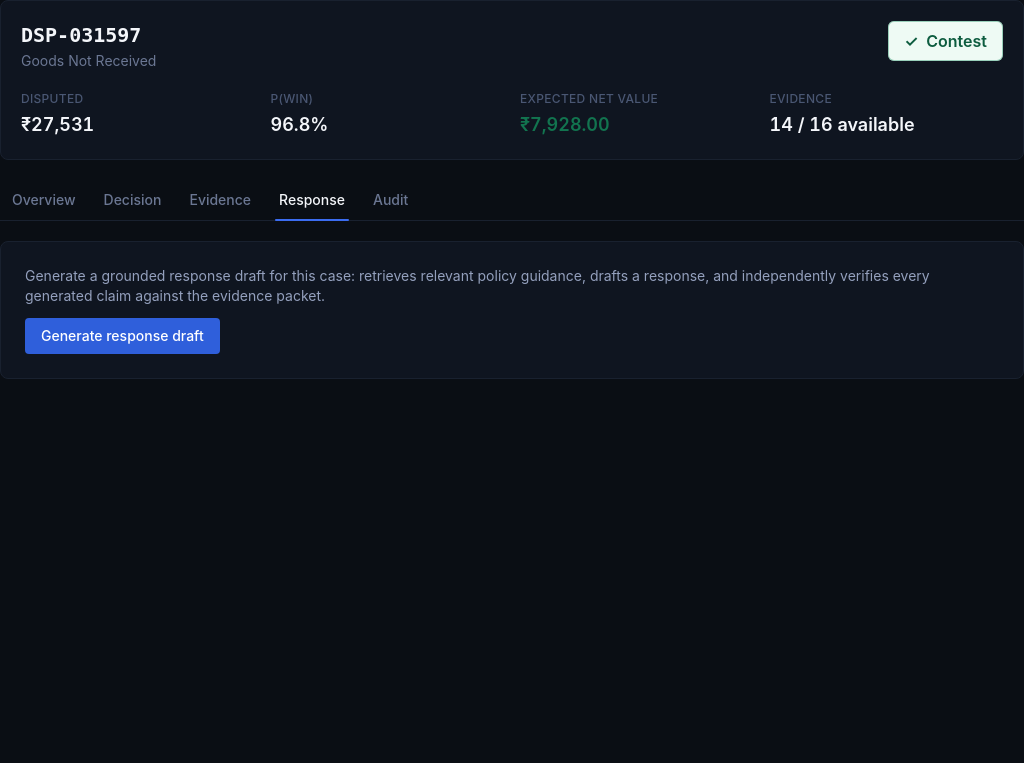
CaseResponsePage › never softens a blocked draft state
Click the button "Generate response draft".
click(122, 336)  # box [25,318,220,354]
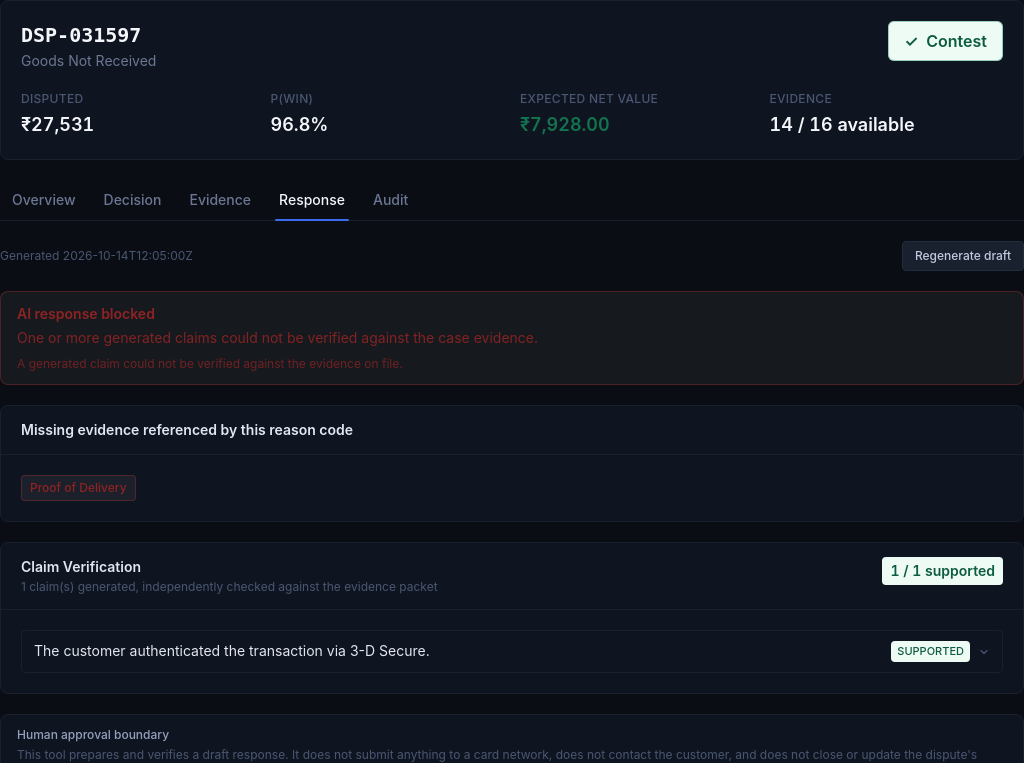
Check: the text "AI response blocked" is shown, box [17,305,155,322]
